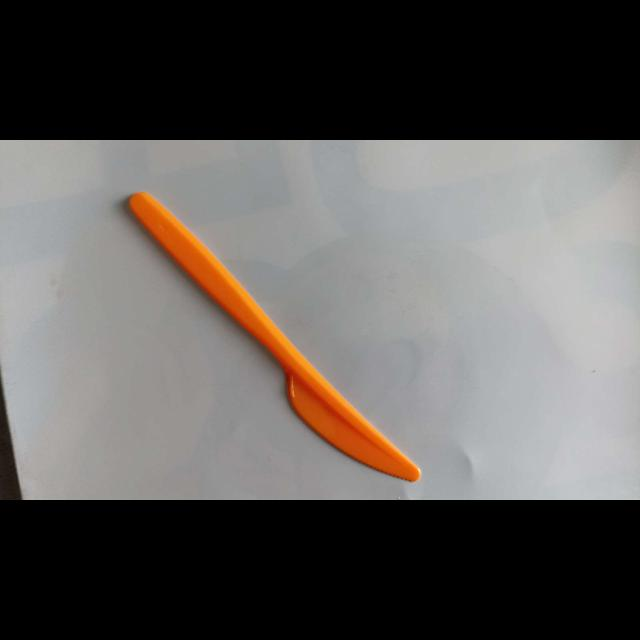plastic_cultery: (125, 192, 432, 488)
